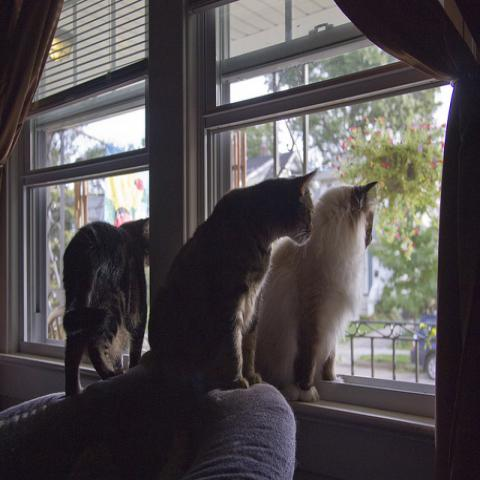car: (410, 314, 439, 384)
